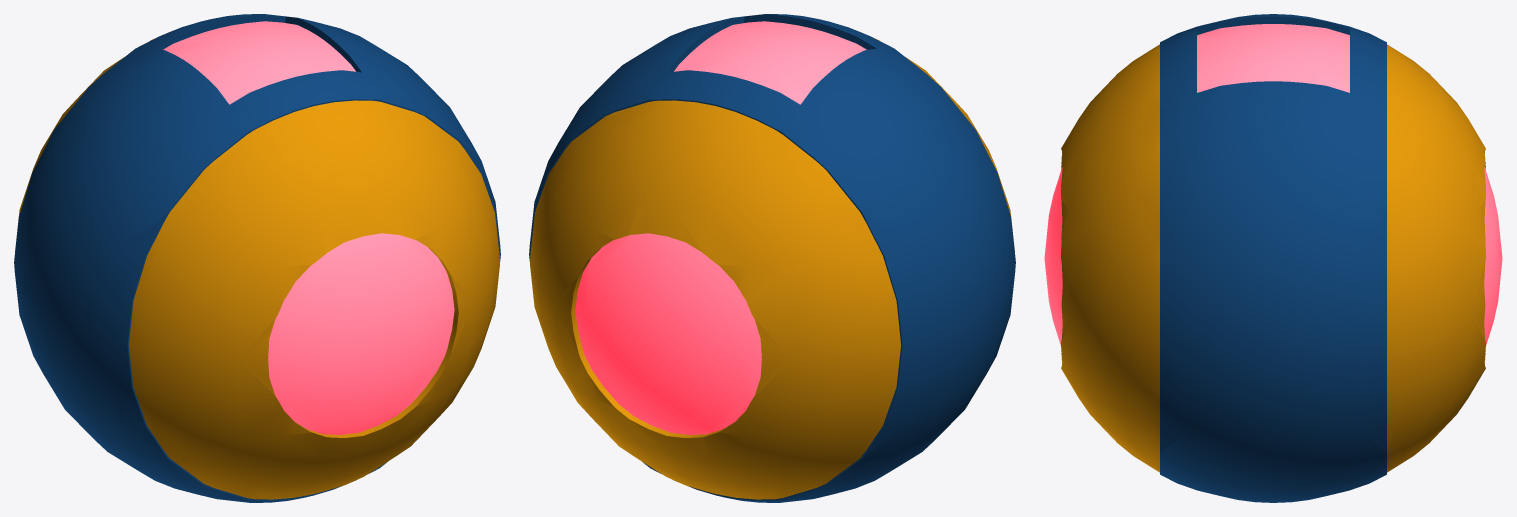
The model's file is techBall.fbx.
3 views of the same model, side by side, from view 1: azimuth 30°, elevation 25°; view 2: azimuth 150°, elevation 25°; view 3: azimuth 270°, elevation 25° (orthographic).
Visible parts, largest first — view 1: Ball; view 2: Ball; view 3: Ball.
Boxes of the visible parts, x1=… form: Ball: x1=14, y1=14, x2=500, y2=502; Ball: x1=529, y1=14, x2=1015, y2=502; Ball: x1=1044, y1=14, x2=1502, y2=502.
Bounding box in the file's own units: 2 × 1.93 × 1.87.
